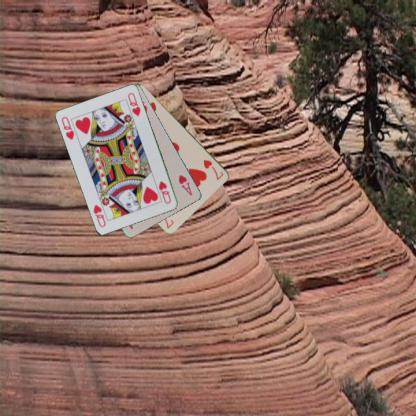7h: (201, 157, 225, 182)
Ah: (176, 172, 194, 197)
Qh: (59, 114, 76, 141), (156, 179, 173, 205)
